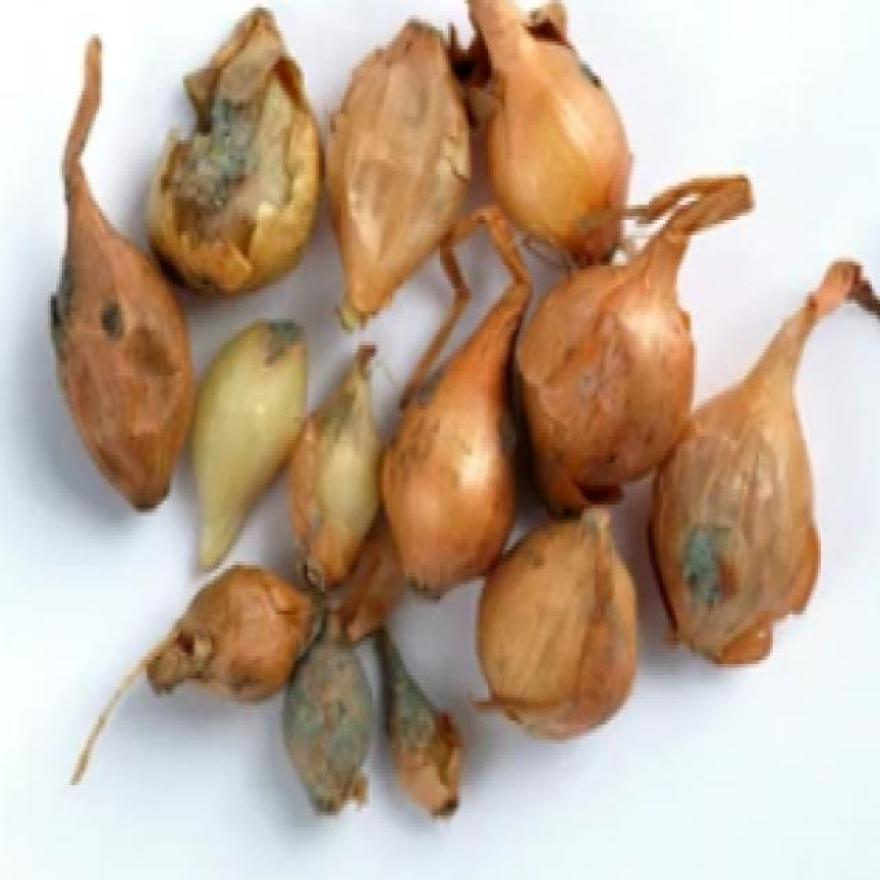Rotten: (293, 641, 448, 781), (156, 102, 268, 220), (680, 524, 747, 630), (36, 262, 88, 353), (262, 314, 302, 357)
